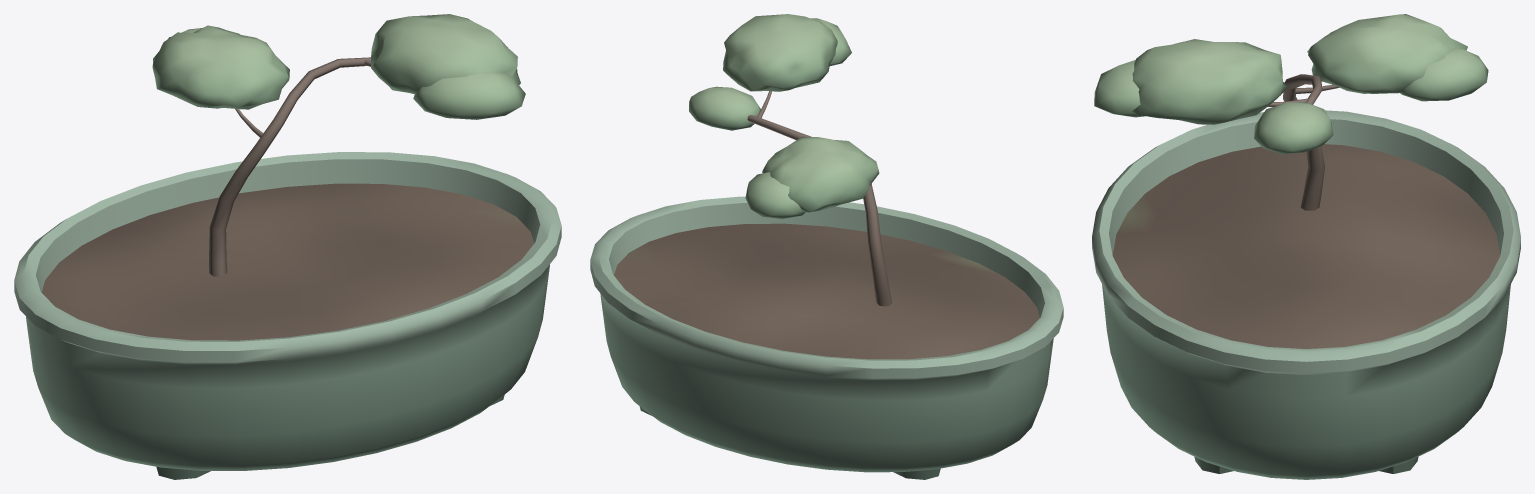
Rendered from bonsai_stage1.glb.
The picture shows the model from 3 angles, left to right: view 1: azimuth 30°, elevation 25°; view 2: azimuth 150°, elevation 25°; view 3: azimuth 270°, elevation 25°; orthographic projection. The views are drawn at different scales.
Visible parts, largest first — view 1: bonsai_stage1; view 2: bonsai_stage1; view 3: bonsai_stage1.
Part boxes in pixels (left/top/right/bottom): bonsai_stage1: left=14, top=14, right=561, bottom=479; bonsai_stage1: left=590, top=14, right=1063, bottom=479; bonsai_stage1: left=1092, top=14, right=1520, bottom=479.
Size of what is drawn, in the model's own units: 0.3672 by 0.2668 by 0.2652.
